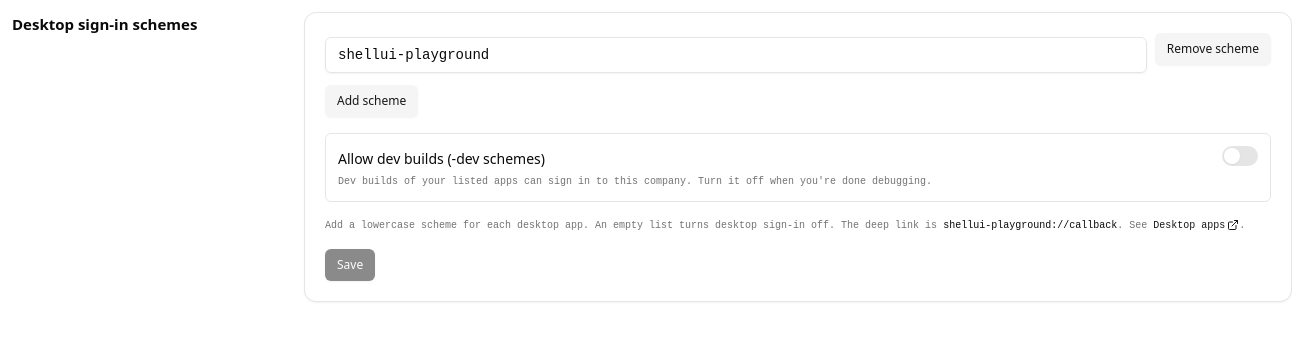
Test case: CompanyDesktopSchemesSection › shows the deep link, docs, and a per-entry validation error
Expected: the text "shellui-playground://callback" is shown, [943,220,1117,231]
Replace the text in the field named "desktop sign-in schemes 1" with "https" at [736, 55], box [325,37,1147,73]
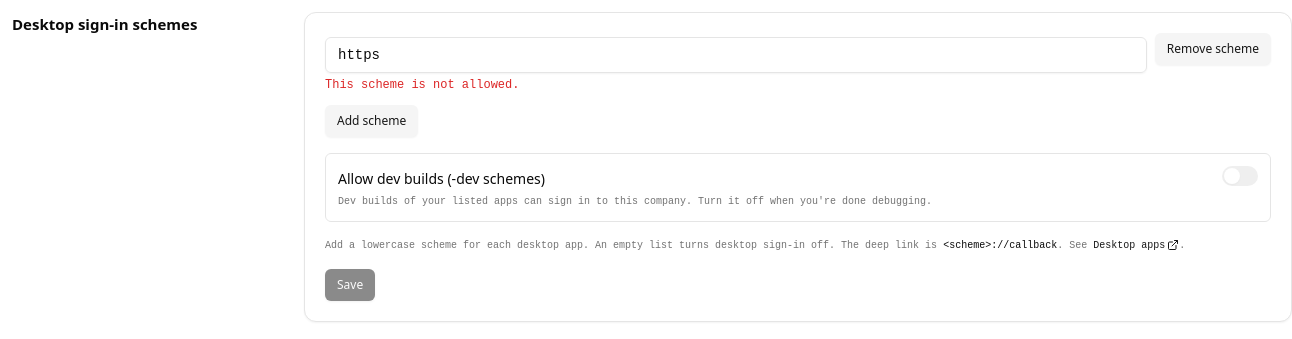
Expected: the button "Save" is disabled, [325,269,375,301]
Expected: the text "This scheme is not allowed." is shown, [325,78,519,92]
Expected: the text "<scheme>://callback" is shown, [943,240,1057,251]
